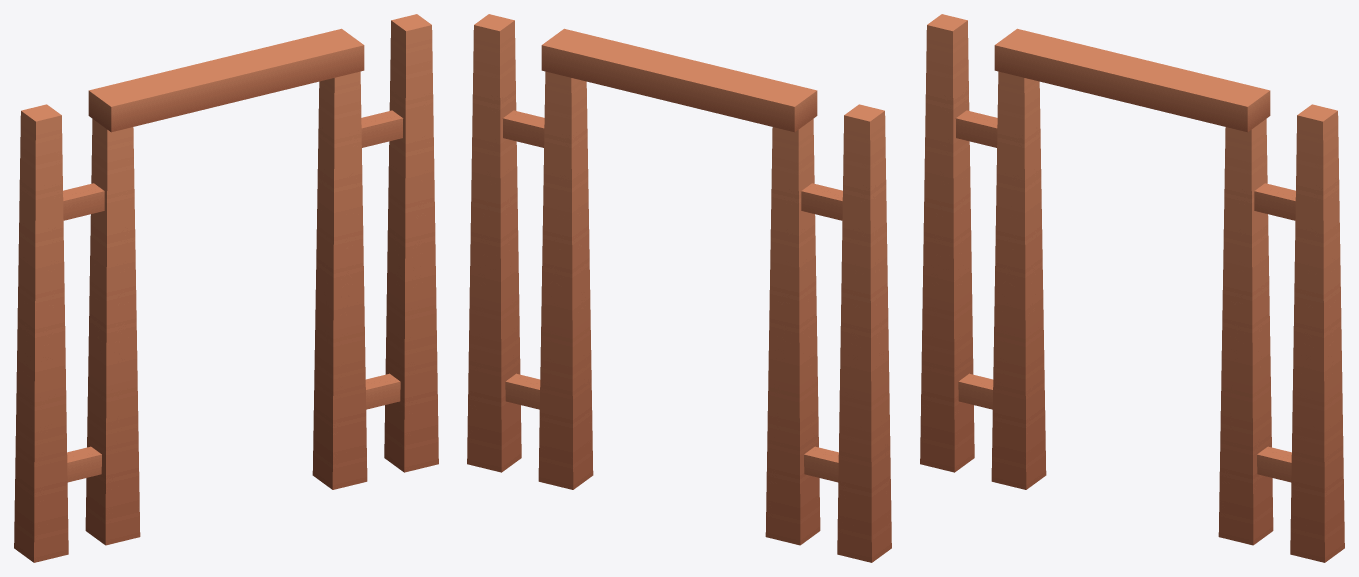
Rendered from fence-doorway.glb.
3 views of the same model, side by side, from view 1: azimuth 30°, elevation 25°; view 2: azimuth 150°, elevation 25°; view 3: azimuth 330°, elevation 25° (orthographic).
Visible parts, largest first — view 1: fence-doorway, Group; view 2: fence-doorway, Group; view 3: fence-doorway, Group.
Part boxes in pixels (x1=…): fence-doorway: x1=14, y1=14, x2=438, y2=562; Group: x1=88, y1=28, x2=364, y2=132; fence-doorway: x1=467, y1=14, x2=891, y2=562; Group: x1=541, y1=28, x2=817, y2=132; fence-doorway: x1=920, y1=14, x2=1344, y2=562; Group: x1=994, y1=28, x2=1270, y2=132.
Size of the model in its own units: 0.5 by 0.5175 by 0.0481.
1 material, 1 textured.
